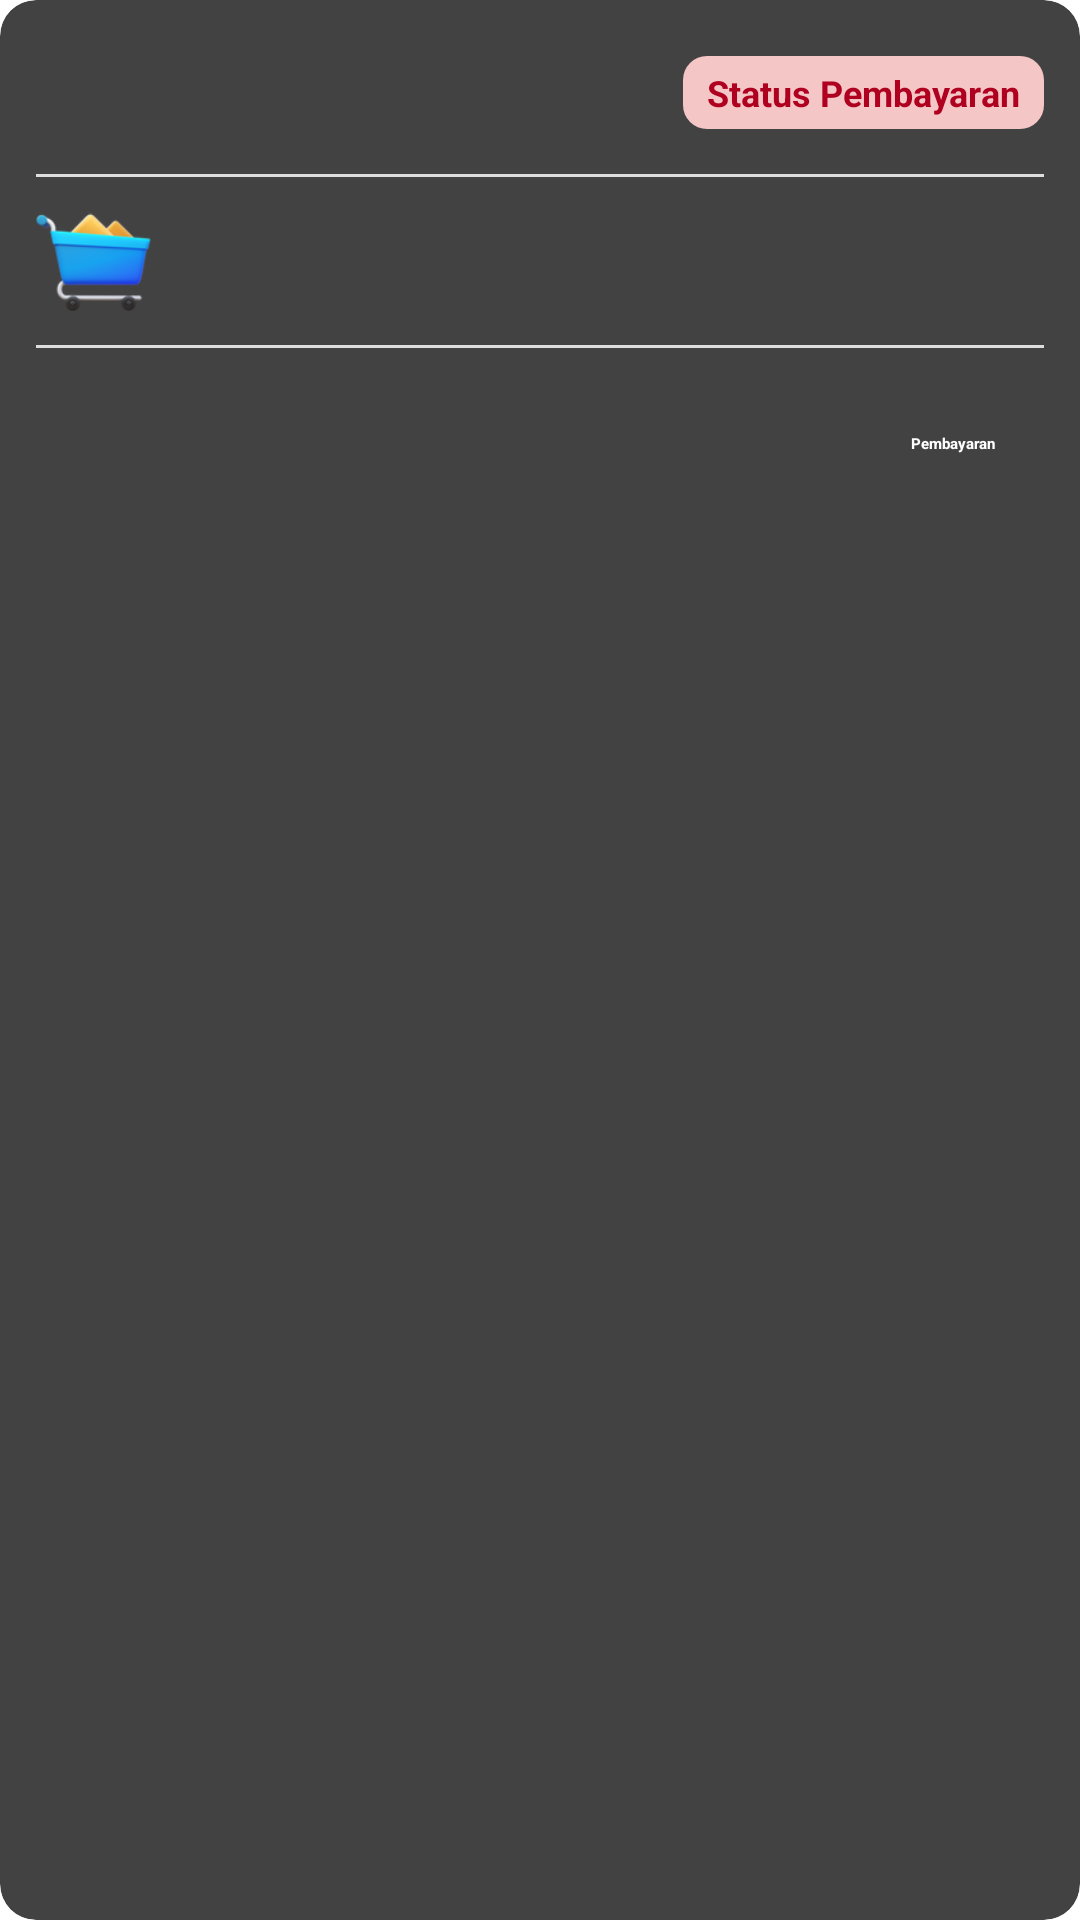

Icons on this 1080 × 1920 Android screen, each with the point to tap as point (x, y):
cart: point (93, 262)
